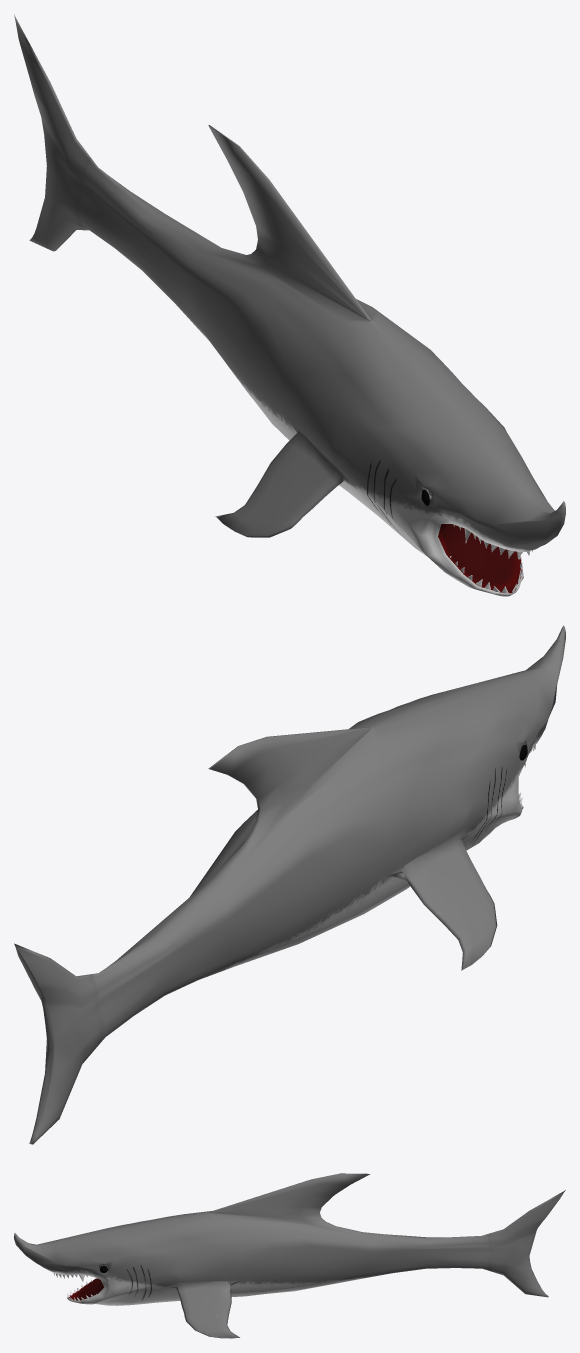
Rendered from Shark.FBX.
3 renders of one model, top to bottom at view 1: azimuth 30°, elevation 25°; view 2: azimuth 150°, elevation 25°; view 3: azimuth 270°, elevation 25°, orthographic. The views are drawn at different scales.
Visible parts, largest first — view 1: Shark; view 2: Shark; view 3: Shark.
Part boxes in pixels (box(x1,y1,x2,y2)): Shark: box(14, 14, 565, 596); Shark: box(14, 625, 565, 1144); Shark: box(14, 1173, 565, 1338).
Size of the model in its own units: 155 by 160 by 595.
1 material, 1 textured.
